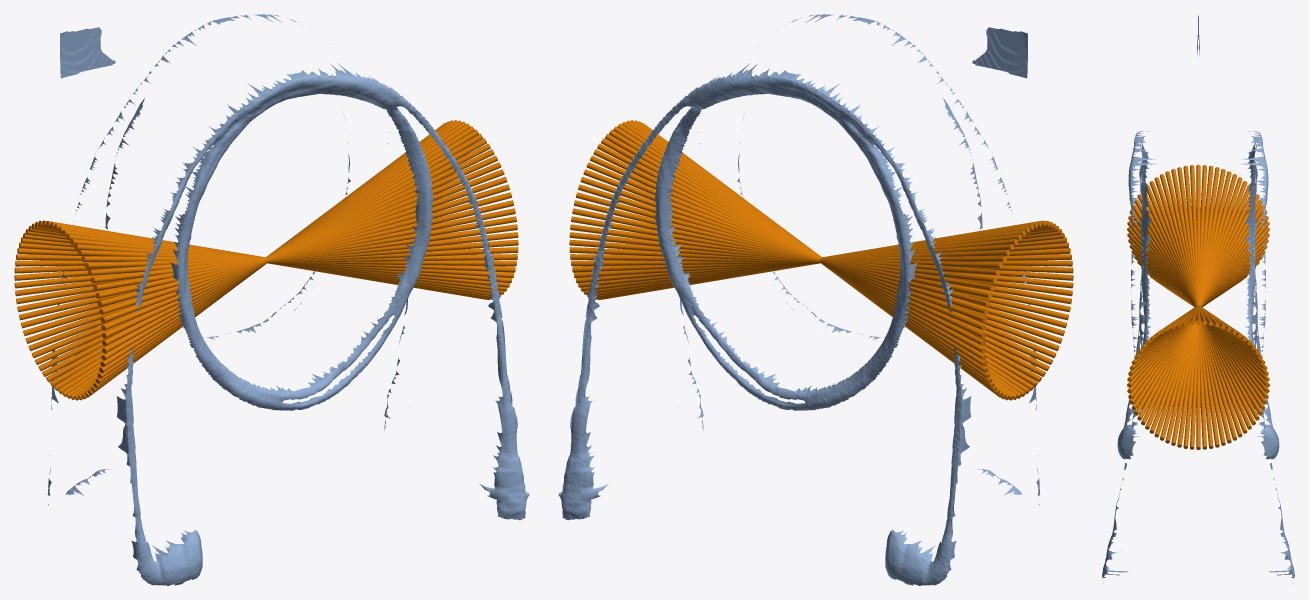
The model's file is A60023304_6150-37-520-4020_DigitalTwin.glb.
The picture shows the model from 3 angles, left to right: view 1: azimuth 30°, elevation 25°; view 2: azimuth 150°, elevation 25°; view 3: azimuth 270°, elevation 25°; orthographic projection. The views are drawn at different scales.
Visible parts, largest first — view 1: world; view 2: world; view 3: world.
Boxes of the visible parts, x1=… form: world: x1=14, y1=14, x2=529, y2=585; world: x1=558, y1=14, x2=1073, y2=585; world: x1=1102, y1=15, x2=1294, y2=583.
Bounding box in the file's own units: 335 × 416 × 174.
